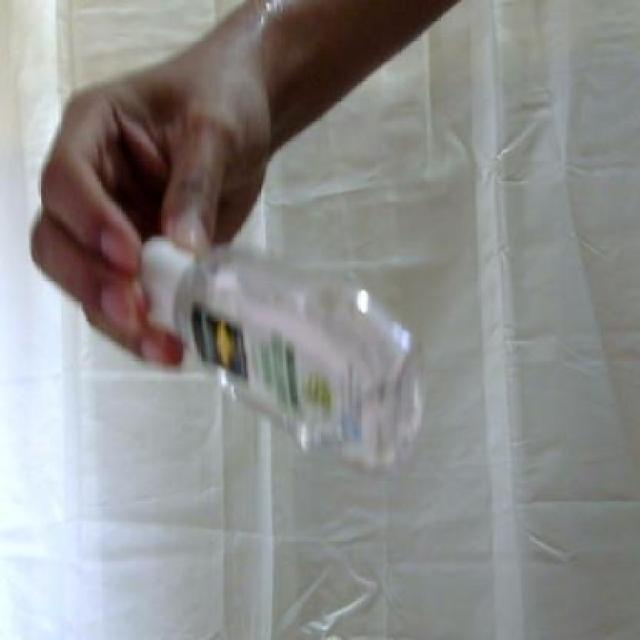Plastic: (132, 217, 435, 497)
